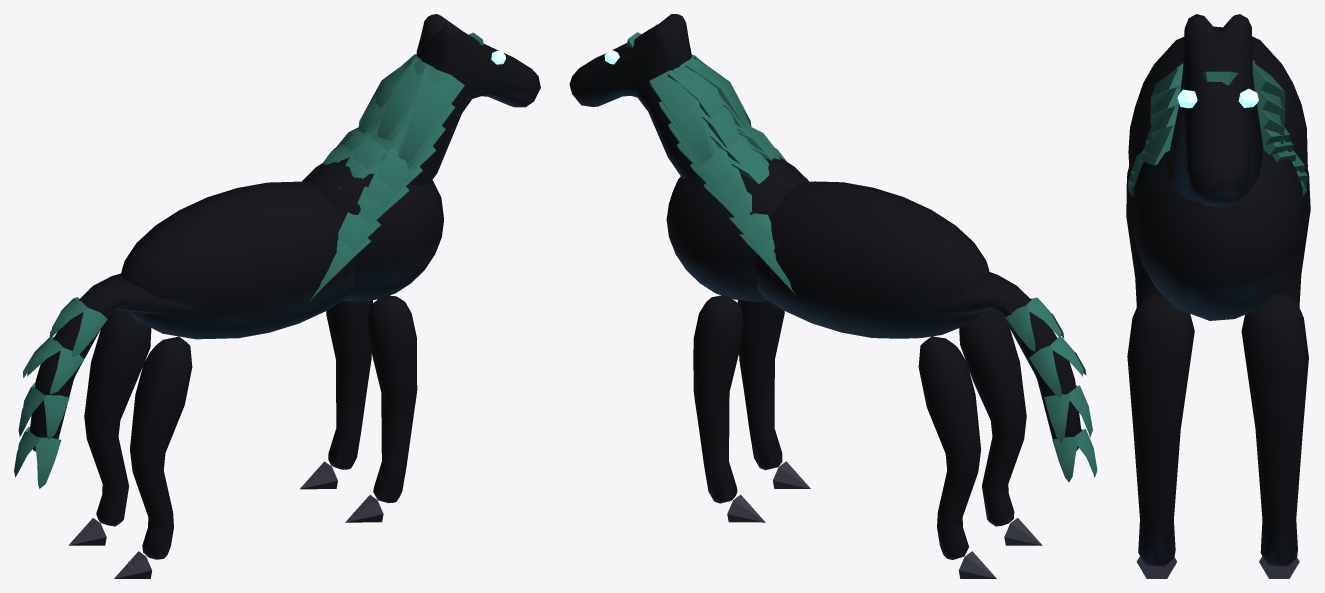
File: kelpie.glb
The picture shows the model from 3 angles, left to right: view 1: azimuth 30°, elevation 25°; view 2: azimuth 150°, elevation 25°; view 3: azimuth 270°, elevation 25°; orthographic projection. The views are drawn at different scales.
Visible parts, largest first — view 1: kelpie.001; view 2: kelpie.001; view 3: kelpie.001.
Boxes of the visible parts, x1,y1,x2,y2 form: kelpie.001: (14, 14, 540, 578); kelpie.001: (569, 14, 1097, 578); kelpie.001: (1126, 14, 1310, 578).
Size of the model in its own units: 1.98 by 1.68 by 0.4519.
